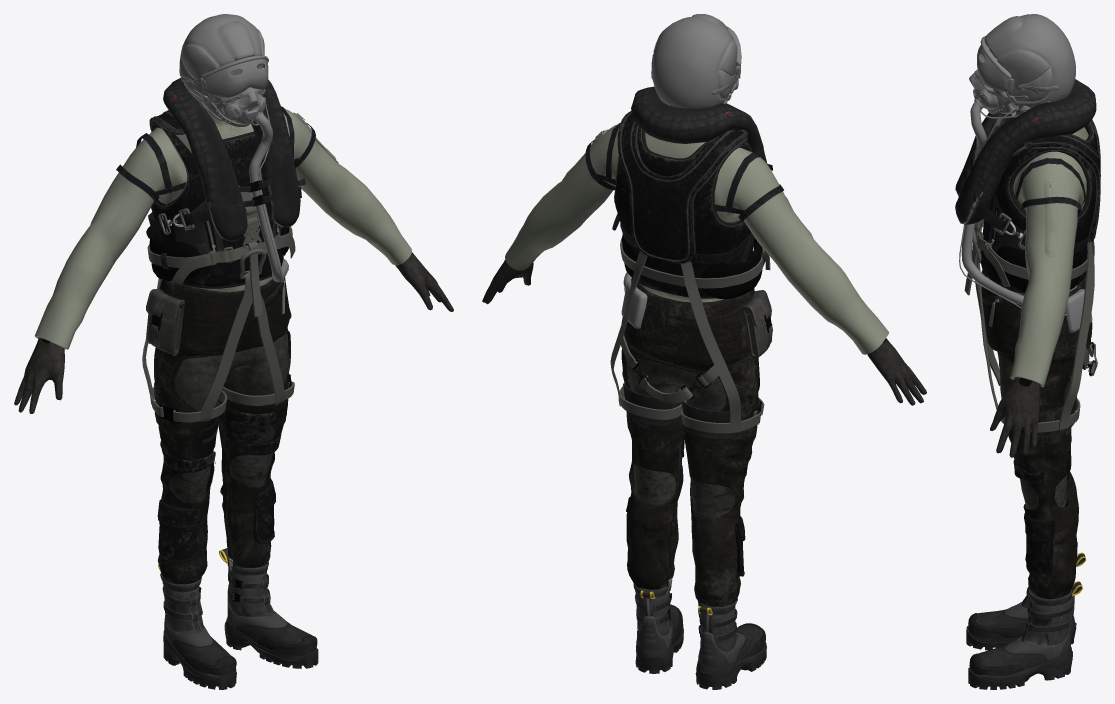
Rendered from pilot.glb.
3 renders of one model, left to right at view 1: azimuth 30°, elevation 25°; view 2: azimuth 150°, elevation 25°; view 3: azimuth 270°, elevation 25°, orthographic.
Parts seen in each view (by area): view 1: HARNESS.011; view 2: HARNESS.011; view 3: HARNESS.011.
Part boxes in pixels (box(x1,y1,x2,y2)): HARNESS.011: box(14, 14, 453, 689); HARNESS.011: box(482, 14, 926, 689); HARNESS.011: box(955, 14, 1100, 689).
Size of the model in its own units: 4.74 by 6.71 by 1.39.
12 materials, 4 textured.
